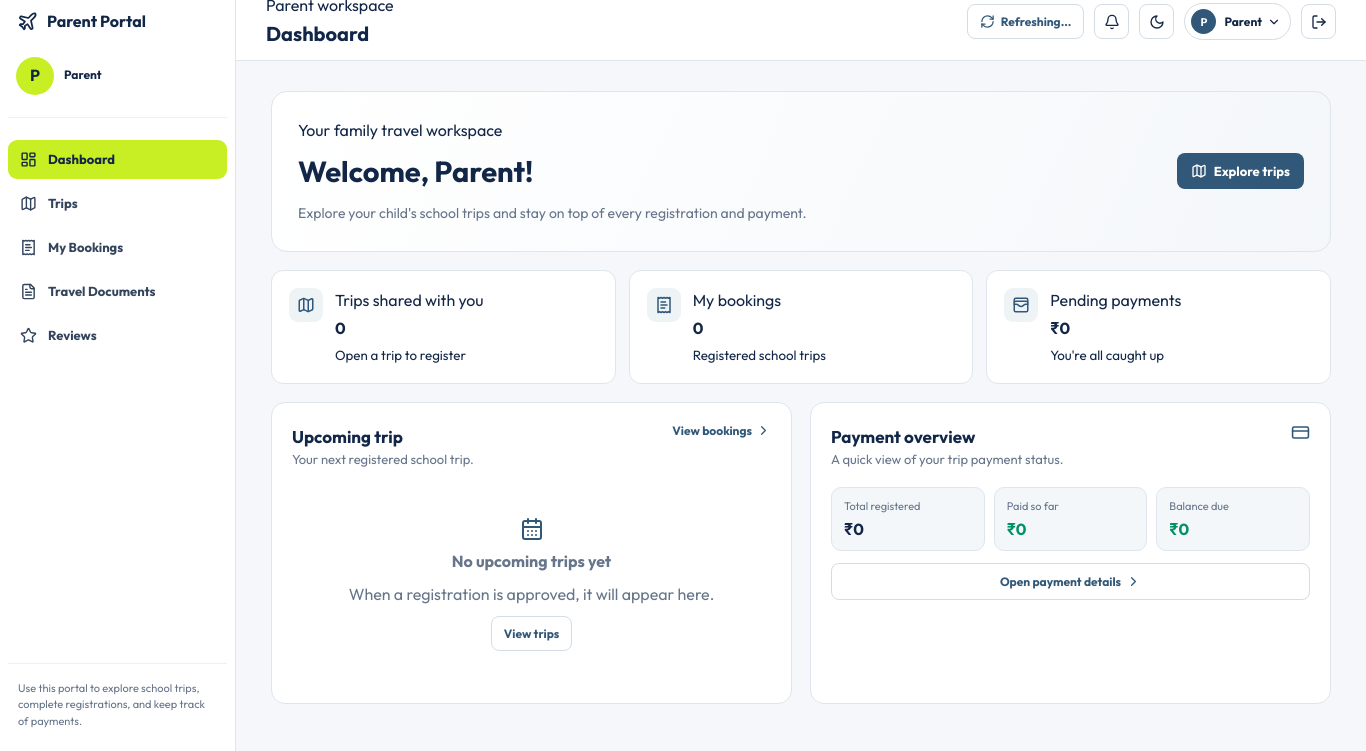
Test: TmcParentPortal › shows booking details, payment totals, and the outstanding payment action
Expected: the heading "Dashboard" is shown, left=266, top=21, right=369, bottom=46
Click the button "My Bookings": x=118, y=247 left=8, top=228, right=227, bottom=267
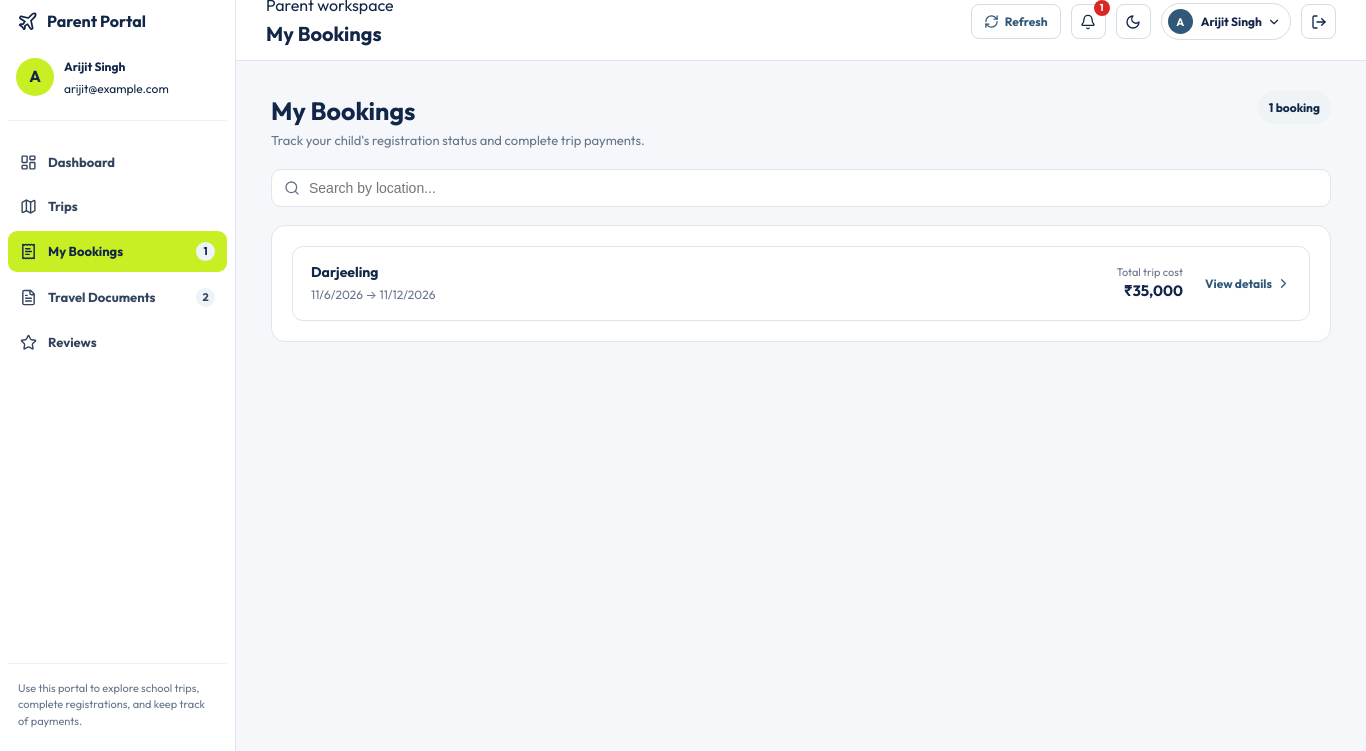
Result: the 2nd heading "My Bookings" is shown at left=271, top=95, right=416, bottom=127
Result: the element showing "Darjeeling 11/6/2026 → 11/12/2026" is shown at left=311, top=262, right=436, bottom=302
Result: the element showing "Total trip cost ₹35,000 View details" is shown at left=1117, top=266, right=1291, bottom=301
Click the button with aria-label "View Darjeeling details": x=345, y=272 left=292, top=246, right=1310, bottom=321
(page scrolled)
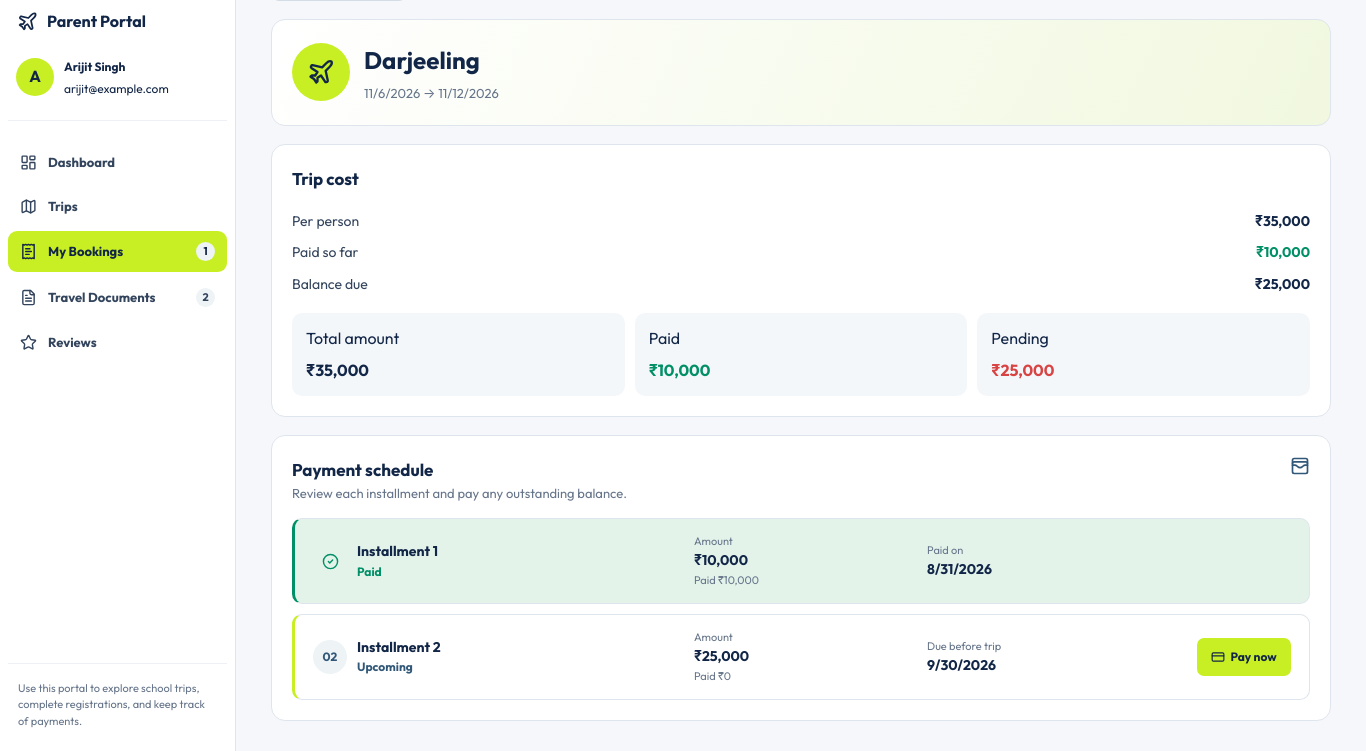
Result: the heading "Darjeeling" is shown at left=364, top=41, right=499, bottom=79
Result: the heading "Payment schedule" is shown at left=292, top=459, right=433, bottom=480
Result: the text "Paid" next to "Pending" is shown at left=649, top=328, right=680, bottom=348
